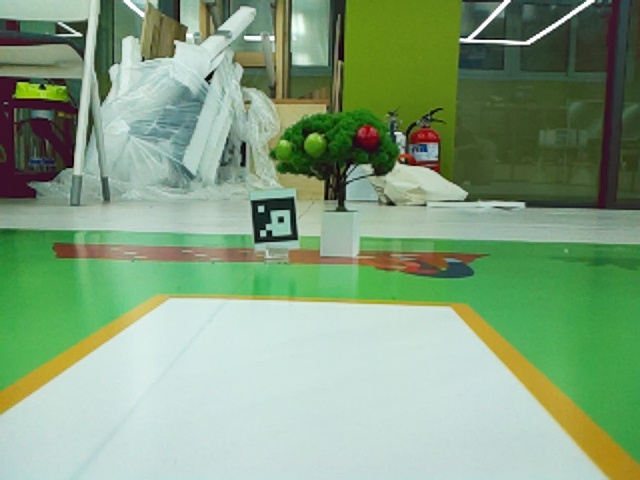apple: (354, 124, 381, 152)
